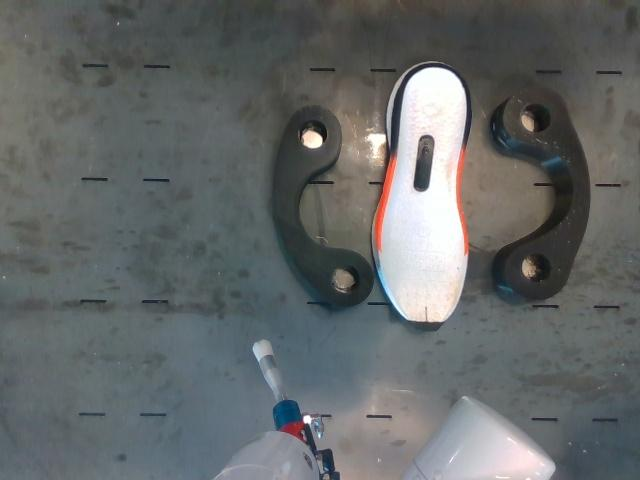shoes: (382, 66, 467, 332)
